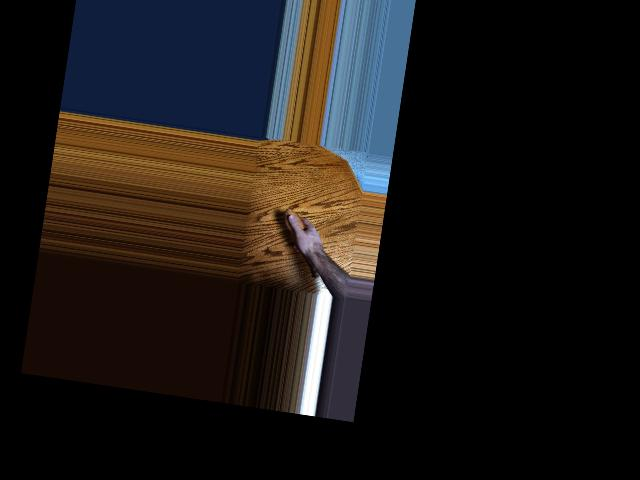sweet_potato: (275, 207, 329, 280)
